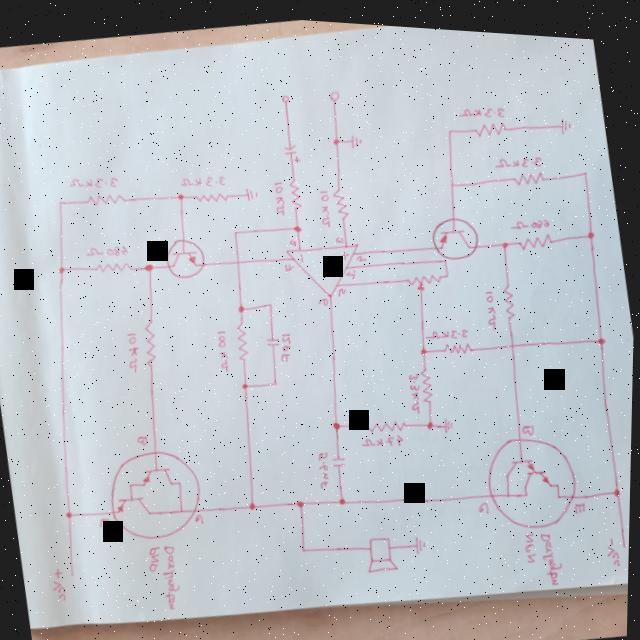capacitor: (280, 134, 303, 162), (331, 446, 353, 469), (265, 329, 282, 346)
crossover: (509, 332, 518, 342), (235, 253, 244, 262)
ground: (412, 526, 432, 549), (242, 178, 261, 200), (442, 407, 460, 428), (558, 105, 574, 126), (349, 126, 365, 145)
junction: (142, 257, 157, 271), (248, 495, 260, 507), (426, 412, 438, 424), (66, 506, 77, 518), (597, 326, 608, 338), (57, 262, 68, 274), (293, 218, 304, 230), (175, 187, 186, 199), (419, 339, 430, 350), (333, 414, 344, 425), (237, 299, 248, 310), (586, 220, 597, 231), (500, 231, 511, 242), (613, 477, 623, 489), (297, 493, 307, 505), (339, 490, 349, 501), (331, 130, 341, 141), (241, 376, 251, 386), (448, 172, 457, 182), (267, 295, 276, 305), (581, 160, 590, 169), (445, 119, 454, 128), (57, 197, 66, 206), (302, 540, 309, 549), (273, 375, 280, 383), (444, 264, 451, 272), (233, 224, 240, 231), (441, 251, 449, 257)
resistor: (139, 315, 163, 366), (404, 262, 447, 290), (83, 185, 128, 209), (364, 408, 410, 431), (516, 221, 555, 245), (471, 110, 510, 133), (232, 317, 253, 359), (93, 254, 135, 275), (510, 160, 547, 182), (499, 275, 519, 314), (191, 183, 230, 203), (331, 180, 352, 217), (418, 360, 437, 399), (442, 330, 475, 351), (286, 172, 305, 207)
terminal: (328, 84, 340, 98), (281, 87, 291, 99), (622, 530, 631, 541), (71, 568, 79, 577)
text: (158, 540, 187, 609), (539, 521, 568, 579), (68, 168, 122, 193), (492, 141, 544, 166), (180, 166, 228, 190), (458, 93, 506, 116), (85, 237, 131, 260), (360, 424, 407, 445), (214, 323, 234, 371), (123, 326, 144, 371), (510, 205, 552, 227), (427, 316, 471, 337), (406, 363, 426, 409), (314, 443, 335, 484), (483, 281, 502, 324), (51, 564, 72, 600), (522, 523, 542, 558), (605, 528, 625, 561), (278, 325, 298, 358), (272, 174, 289, 212), (317, 184, 334, 222), (147, 542, 165, 571), (574, 490, 590, 507), (98, 512, 114, 527), (478, 491, 492, 508), (282, 256, 298, 269), (523, 414, 537, 428), (137, 430, 151, 443), (317, 290, 330, 303), (336, 280, 348, 292), (345, 262, 357, 274), (195, 509, 207, 521), (334, 229, 345, 240), (289, 233, 299, 243), (356, 248, 367, 257)
transistor: (476, 419, 589, 530), (99, 438, 211, 546), (428, 204, 484, 256), (162, 228, 211, 280)
